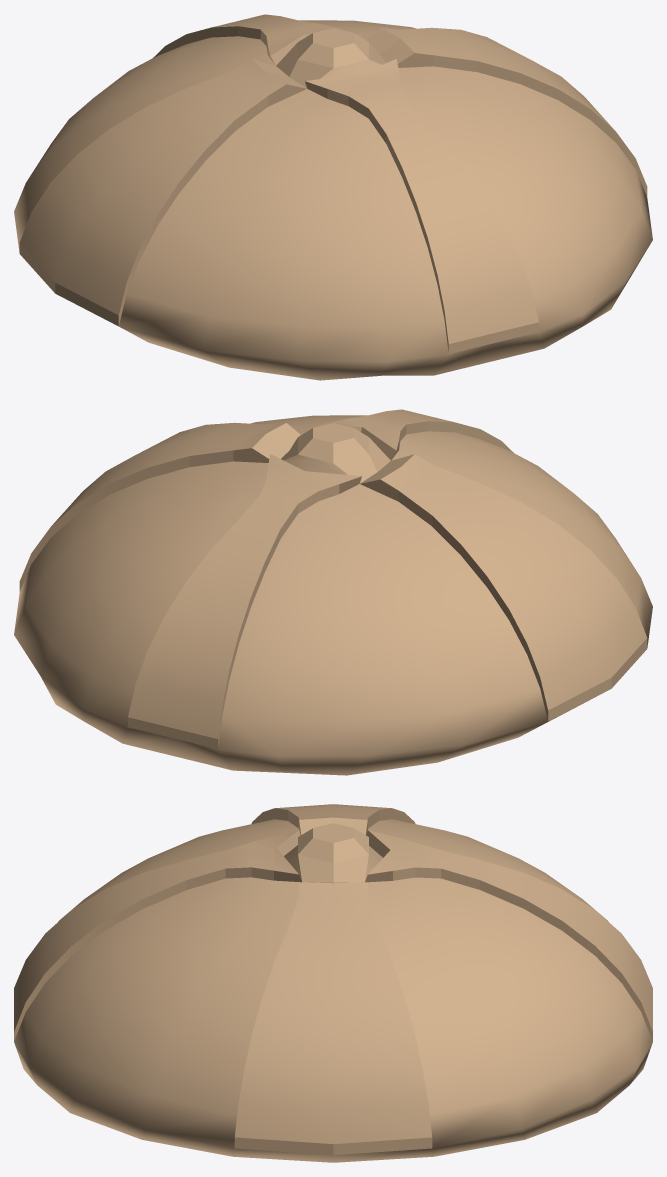
Rendered from Pan de muerto.fbx.
3 renders of one model, top to bottom at view 1: azimuth 30°, elevation 25°; view 2: azimuth 150°, elevation 25°; view 3: azimuth 270°, elevation 25°, orthographic.
Visible parts, largest first — view 1: Pan_de_muerto; view 2: Pan_de_muerto; view 3: Pan_de_muerto.
Part boxes in pixels (box(x1,y1,x2,y2)): Pan_de_muerto: box(14, 14, 652, 380); Pan_de_muerto: box(14, 409, 652, 775); Pan_de_muerto: box(14, 804, 652, 1162).
Size of the model in its own units: 13.53 by 5.06 by 13.51.
